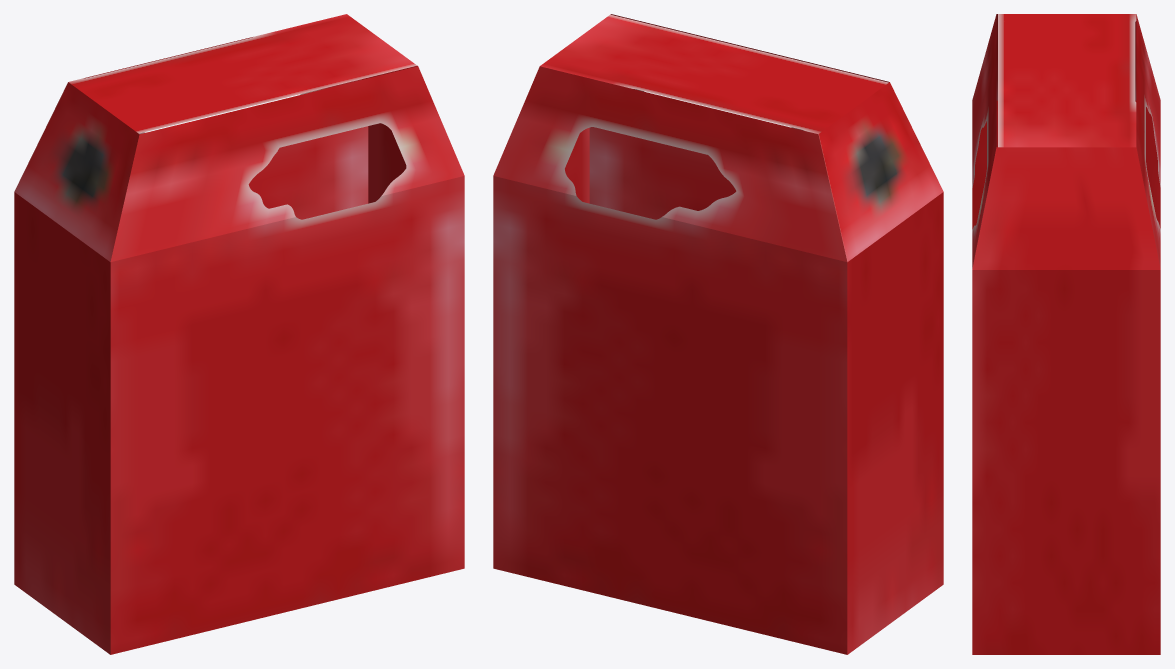
Rendered from ITEM_REDFUEL.fbx.
3 renders of one model, left to right at view 1: azimuth 30°, elevation 25°; view 2: azimuth 150°, elevation 25°; view 3: azimuth 270°, elevation 25°, orthographic. The views are drawn at different scales.
Parts seen in each view (by area): view 1: Cube.001; view 2: Cube.001; view 3: Cube.001.
Boxes of the visible parts, bbox=[...] form: Cube.001: bbox=[14, 14, 464, 654]; Cube.001: bbox=[493, 14, 943, 654]; Cube.001: bbox=[972, 14, 1160, 654].
Size of the model in its own units: 0.34 by 0.46 by 0.16.
